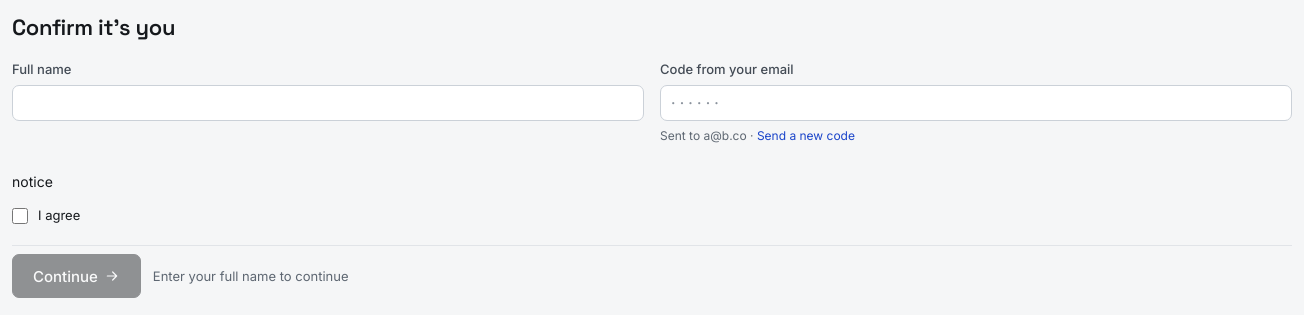
it: VerifyForm code input › pasting 123 456 gives 123456
Click the field labelled "Code from your email": (976, 103) x1=660 y1=85 x2=1292 y2=121
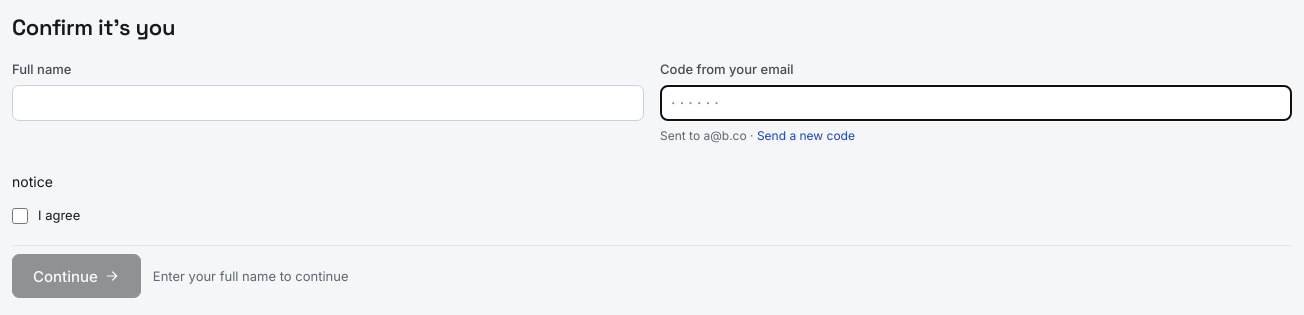
Type keys "123 456"
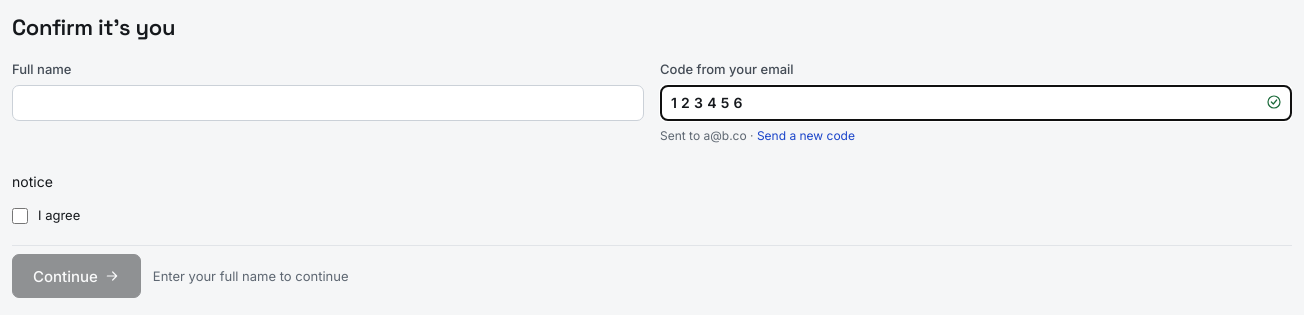
Now the field labelled "Code from your email" holds "123456", box x1=660 y1=85 x2=1292 y2=121
